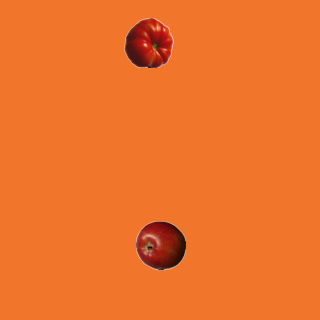Apple Braeburn: (135, 220, 185, 270)
Tomato 3: (123, 17, 173, 67)
